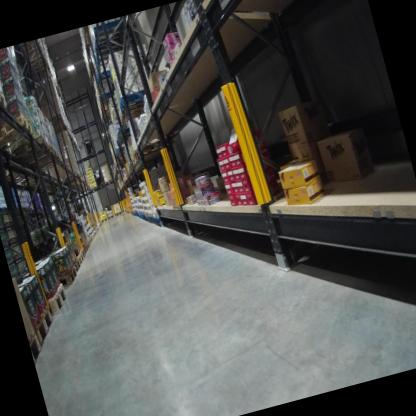pallet: (26, 299, 65, 351), (0, 110, 40, 158), (9, 146, 62, 174), (41, 280, 75, 321), (131, 134, 176, 164), (93, 37, 137, 67), (0, 134, 48, 160), (114, 96, 157, 124), (88, 18, 129, 47), (116, 85, 155, 114), (0, 69, 18, 129), (14, 139, 57, 163), (129, 142, 170, 167), (25, 150, 67, 174), (51, 264, 80, 291), (27, 329, 48, 364), (55, 168, 84, 185), (92, 66, 115, 87), (69, 256, 82, 277), (73, 250, 86, 269), (153, 215, 165, 231), (78, 247, 88, 263), (150, 214, 158, 226), (81, 243, 89, 255), (103, 177, 113, 186), (83, 240, 90, 252), (114, 208, 123, 217), (99, 214, 108, 223), (146, 215, 153, 225), (106, 212, 116, 219), (90, 184, 98, 192), (129, 158, 134, 170), (127, 164, 133, 174)
